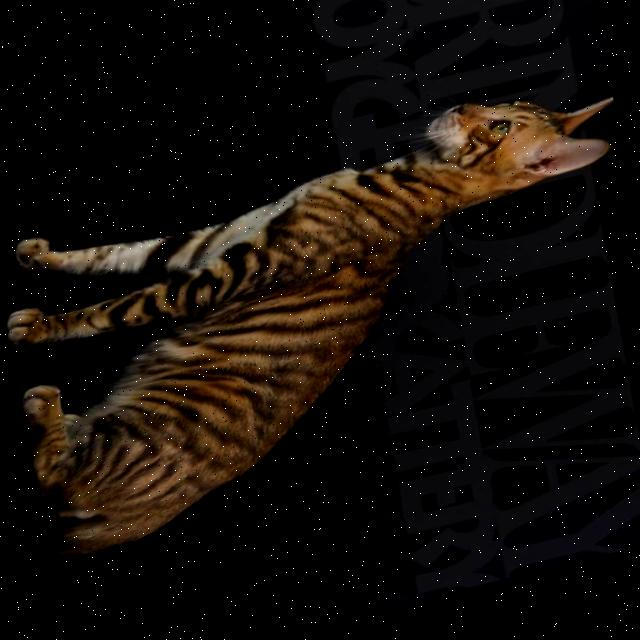Toyger: (0, 71, 640, 570)
